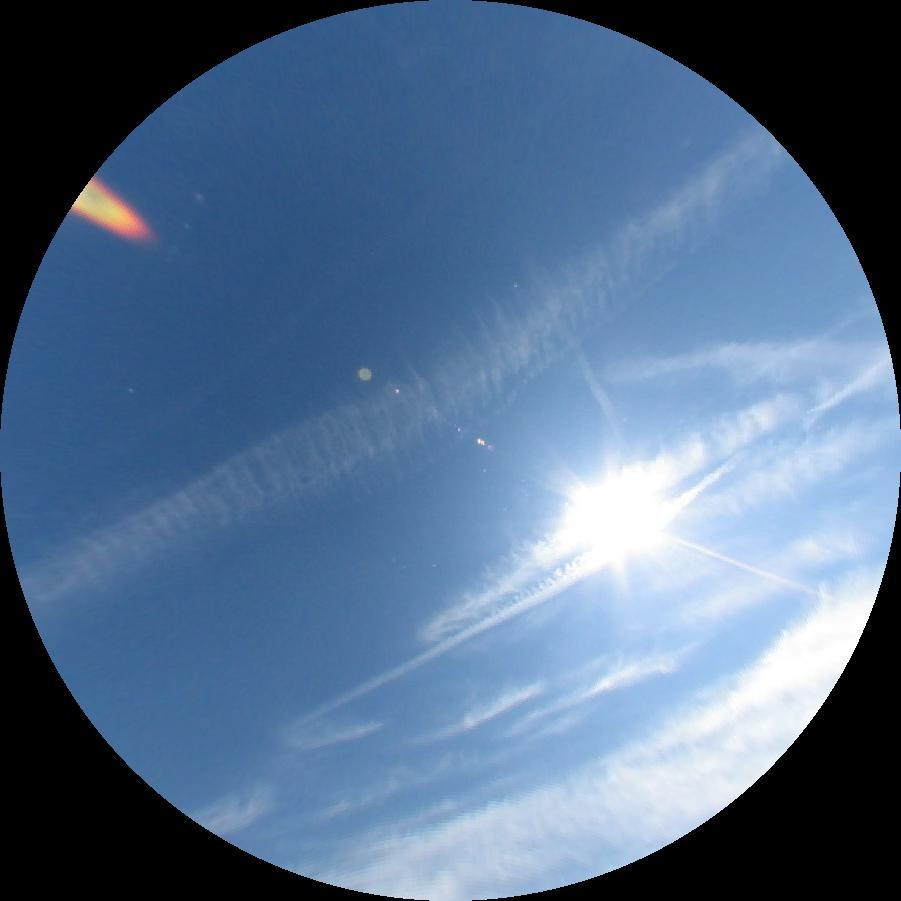contrail veryold: (8, 116, 832, 684), (281, 449, 759, 750), (397, 365, 813, 651), (602, 338, 897, 397), (554, 315, 634, 441)
parasite: (652, 529, 838, 603)
sun: (568, 479, 663, 543)
